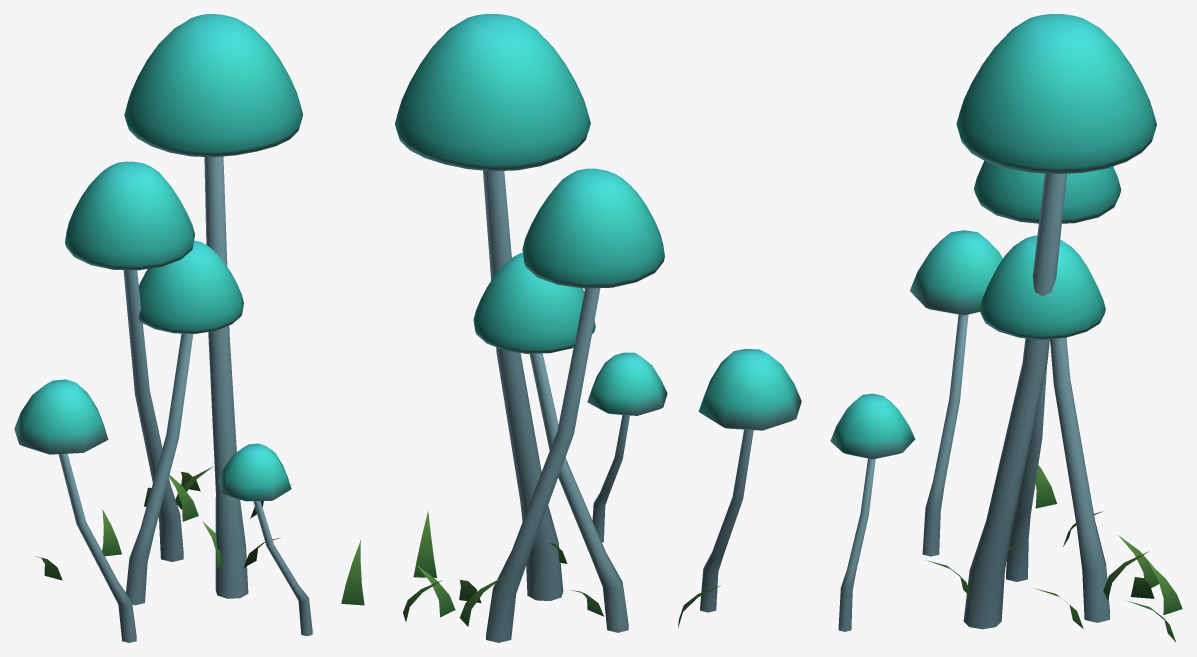
File: mush_glow_teal.glb
3 renders of one model, left to right at view 1: azimuth 30°, elevation 25°; view 2: azimuth 150°, elevation 25°; view 3: azimuth 270°, elevation 25°, orthographic. The views are drawn at different scales.
Visible parts, largest first — view 1: mush_glow_teal; view 2: mush_glow_teal; view 3: mush_glow_teal.
Boxes of the visible parts, x1,y1,x2,y2 form: mush_glow_teal: [14, 14, 312, 642]; mush_glow_teal: [341, 14, 801, 642]; mush_glow_teal: [830, 14, 1182, 641].
Bounding box in the file's own units: 0.3471 × 0.5532 × 0.2899.
